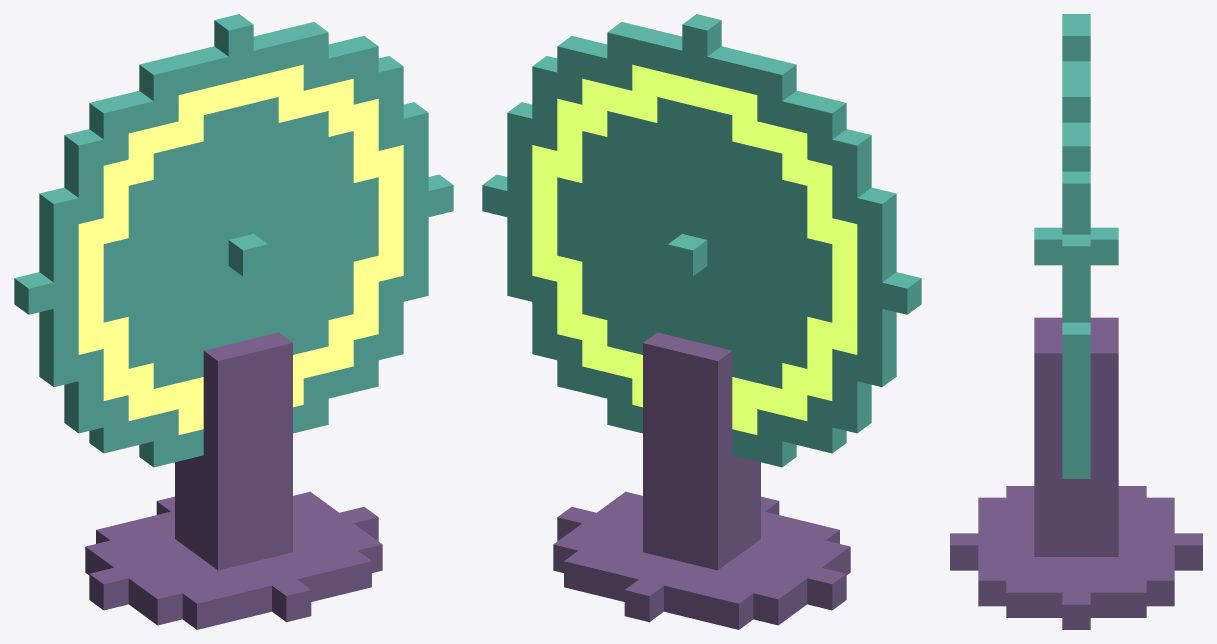
The model's file is alien-biosphere-solar-disk-3dcb476b__22821.glb.
The picture shows the model from 3 angles, left to right: view 1: azimuth 30°, elevation 25°; view 2: azimuth 150°, elevation 25°; view 3: azimuth 270°, elevation 25°; orthographic projection. The views are drawn at different scales.
Visible parts, largest first — view 1: solar-disk; view 2: solar-disk; view 3: solar-disk.
Part boxes in pixels (<box>): solar-disk: <box>14,14,453,629</box>; solar-disk: <box>482,14,921,629</box>; solar-disk: <box>950,14,1202,629</box>.
Size of the model in its own units: 3.4 by 4.4 by 1.8.
